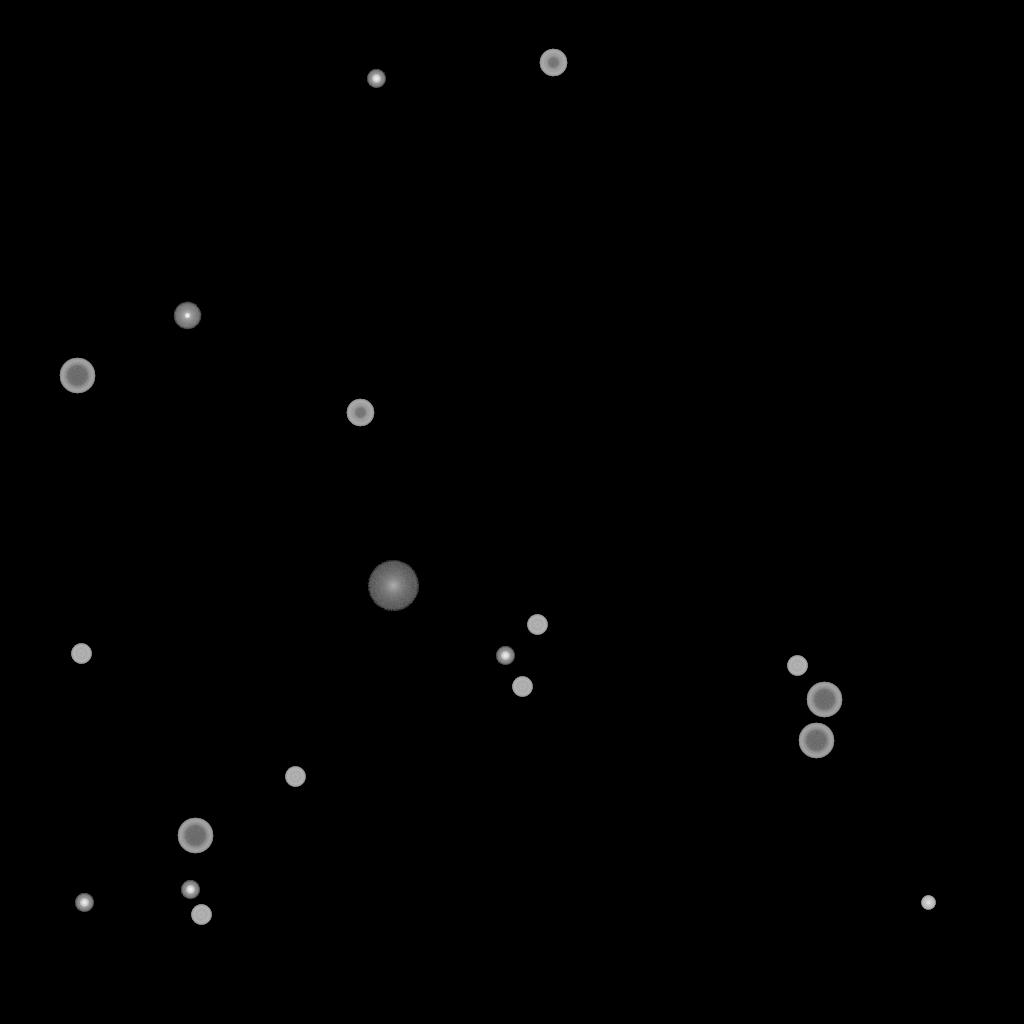depth:-10: (173, 302, 201, 330)
depth:-20: (75, 894, 93, 912), (367, 70, 385, 88), (496, 647, 514, 665), (181, 881, 199, 899)
depth:-30: (921, 896, 935, 910)
depth:-40: (527, 615, 547, 635), (787, 656, 807, 676), (71, 644, 91, 664), (285, 767, 305, 787), (512, 677, 532, 697), (191, 905, 211, 925)
depth:-50: (539, 49, 567, 77), (346, 399, 374, 427)
depth:-60: (59, 358, 95, 394), (798, 723, 834, 759), (806, 682, 842, 718), (177, 818, 213, 854)
depth:20: (367, 561, 419, 611)
